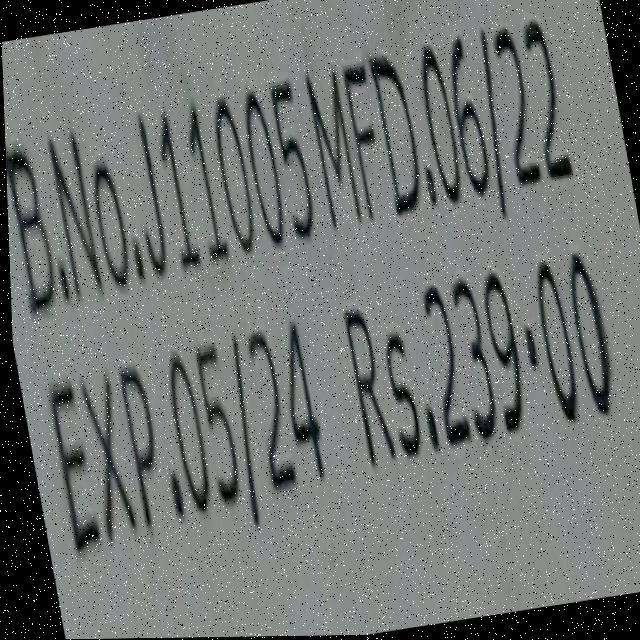sentence: (4, 11, 571, 314), (46, 254, 609, 552)
